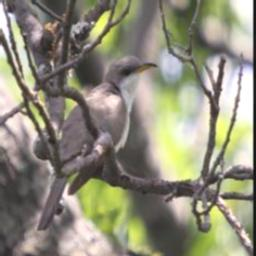Cuckoo: (37, 49, 159, 236)
